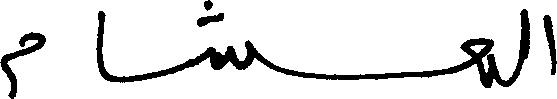X: (212, 0, 254, 74), (0, 27, 43, 98), (462, 33, 493, 92), (515, 4, 529, 85), (543, 10, 556, 79), (96, 6, 106, 84)
